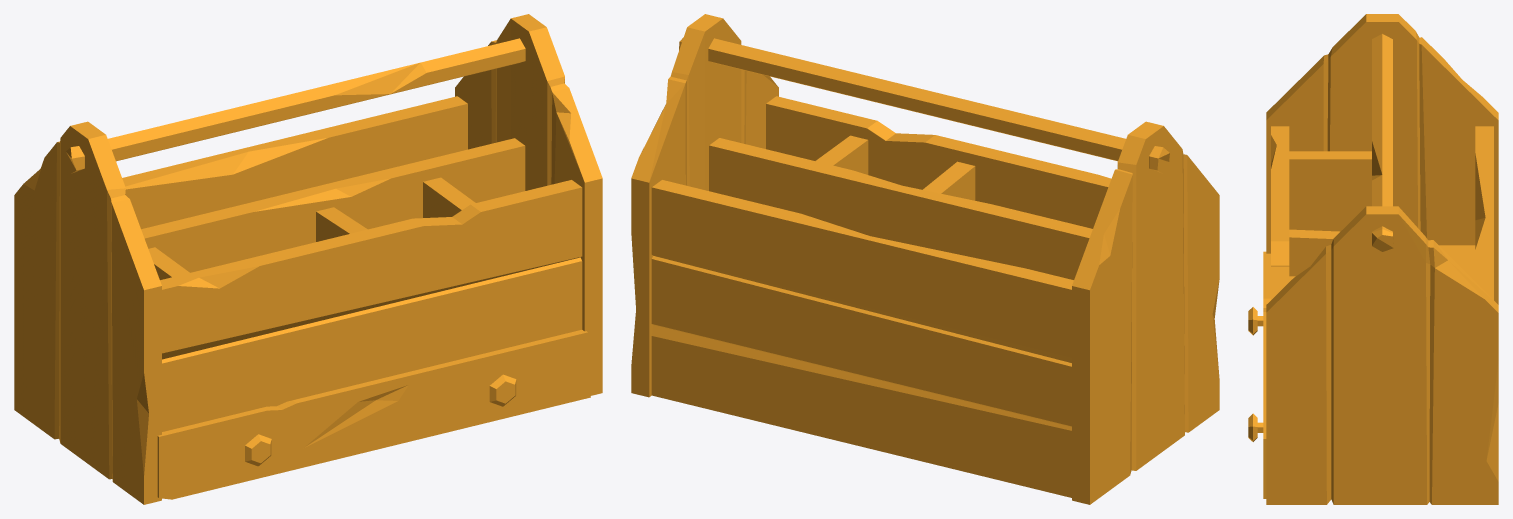
Rendered from SM_Toolbox_Wood_Closed.fbx.
3 views of the same model, side by side, from view 1: azimuth 30°, elevation 25°; view 2: azimuth 150°, elevation 25°; view 3: azimuth 270°, elevation 25° (orthographic). The views are drawn at different scales.
Parts seen in each view (by area): view 1: toolbox-wood-closed; view 2: toolbox-wood-closed; view 3: toolbox-wood-closed.
Part boxes in pixels (x1=…): toolbox-wood-closed: x1=14, y1=14, x2=602, y2=504; toolbox-wood-closed: x1=631, y1=14, x2=1219, y2=504; toolbox-wood-closed: x1=1248, y1=14, x2=1498, y2=504.
Size of the model in its own units: 0.5347 by 0.3452 by 0.2692.
